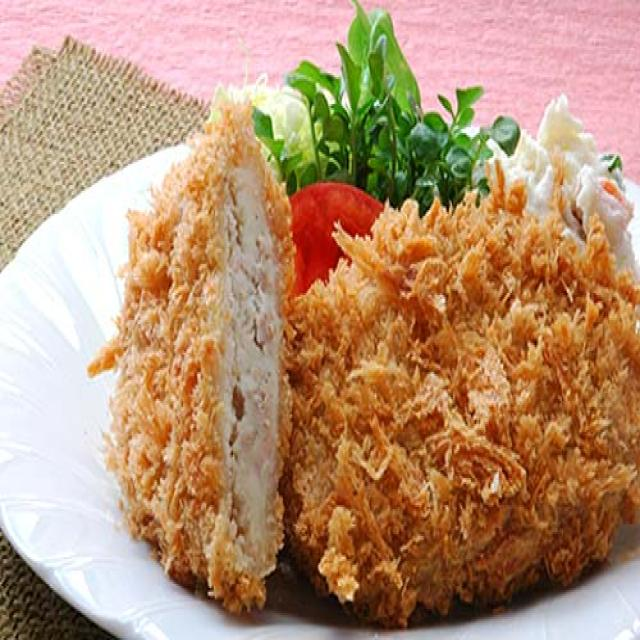炸货点心: (83, 85, 640, 640)
